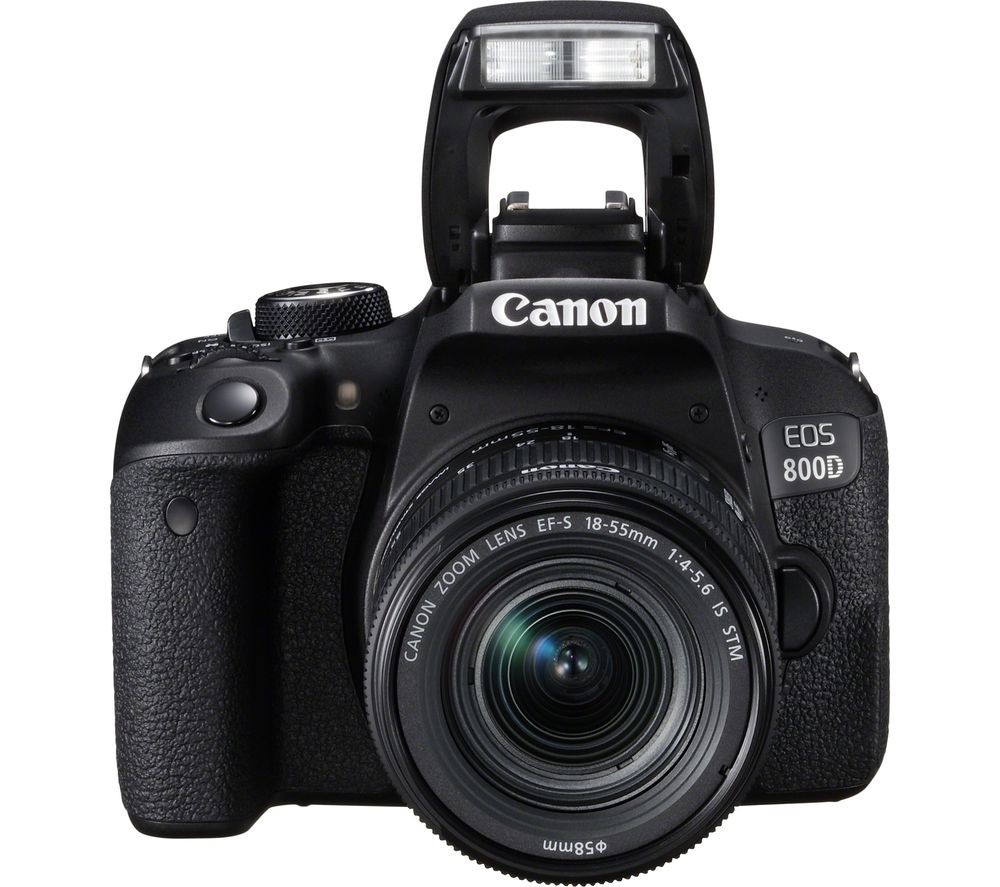kamera: (84, 1, 910, 887)
